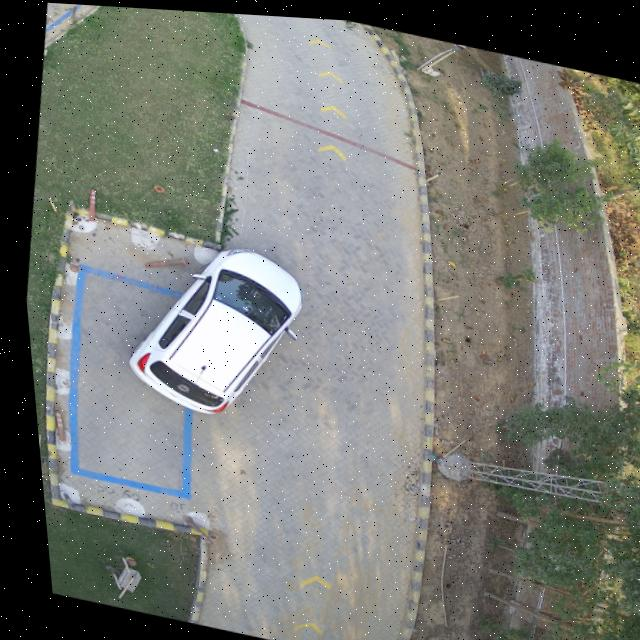car: (122, 245, 296, 412)
